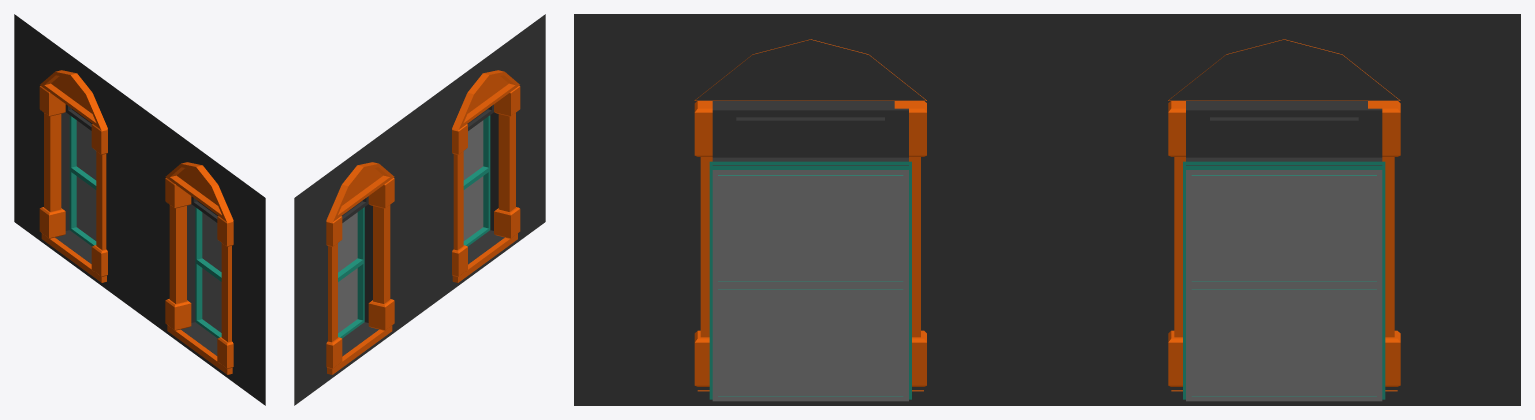
Rendered from SM_M_Build_03.fbx.
3 renders of one model, left to right at view 1: azimuth 30°, elevation 25°; view 2: azimuth 150°, elevation 25°; view 3: azimuth 270°, elevation 25°, orthographic. The views are drawn at different scales.
Visible parts, largest first — view 1: SM_M_Build_03, Box146, Box149, Box150, Box147, Box151, Box148; view 2: SM_M_Build_03, Box150, Box147, Box149, Box146, Box148, Box151; view 3: SM_M_Build_03, Box146, Box150, Box149, Box147.
Boxes of the visible parts, x1=… form: SM_M_Build_03: x1=14, y1=14, x2=265, y2=405; Box146: x1=39, y1=86, x2=65, y2=238; Box149: x1=165, y1=178, x2=191, y2=330; Box150: x1=217, y1=216, x2=233, y2=368; Box147: x1=91, y1=124, x2=107, y2=276; Box151: x1=167, y1=325, x2=232, y2=374; Box148: x1=41, y1=233, x2=106, y2=282; SM_M_Build_03: x1=294, y1=14, x2=545, y2=405; Box150: x1=494, y1=86, x2=520, y2=238; Box147: x1=368, y1=178, x2=394, y2=330; Box149: x1=452, y1=124, x2=467, y2=276; Box146: x1=326, y1=216, x2=342, y2=368; Box148: x1=327, y1=325, x2=392, y2=374; Box151: x1=452, y1=233, x2=517, y2=282; SM_M_Build_03: x1=574, y1=14, x2=1520, y2=405; Box146: x1=1368, y1=101, x2=1400, y2=386; Box150: x1=694, y1=101, x2=712, y2=386; Box149: x1=894, y1=101, x2=926, y2=386; Box147: x1=1168, y1=101, x2=1185, y2=386.
Bounding box in the file's own units: 82.27 × 521 × 1140.
